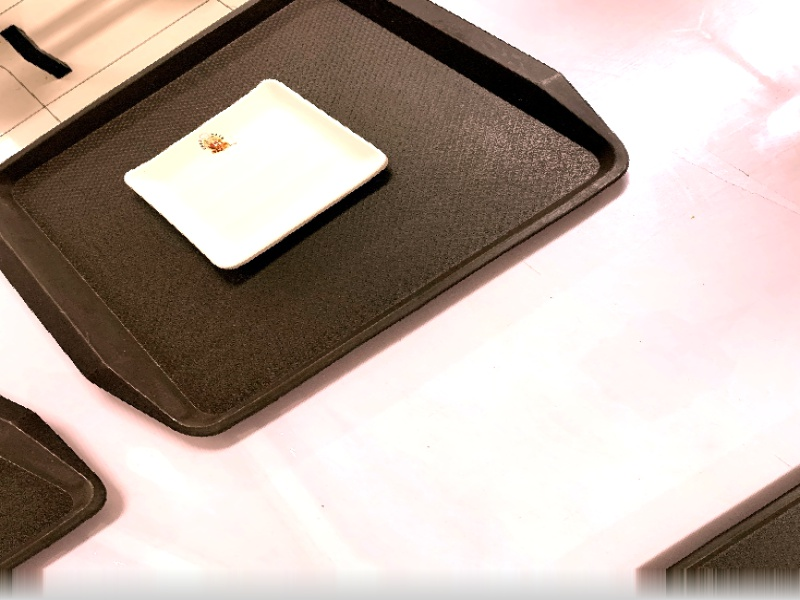dish4: (96, 62, 414, 283)
